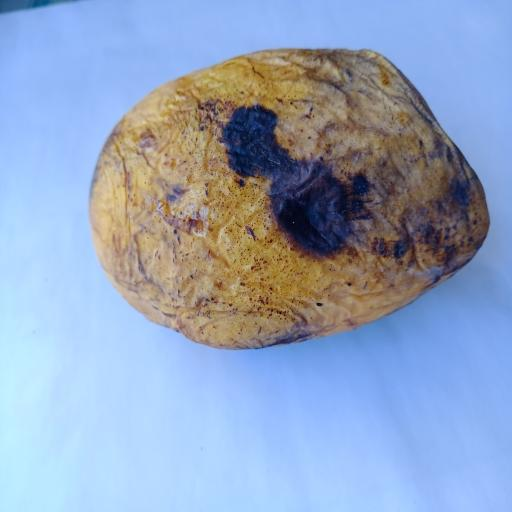mango-overripe: (76, 42, 506, 362)
